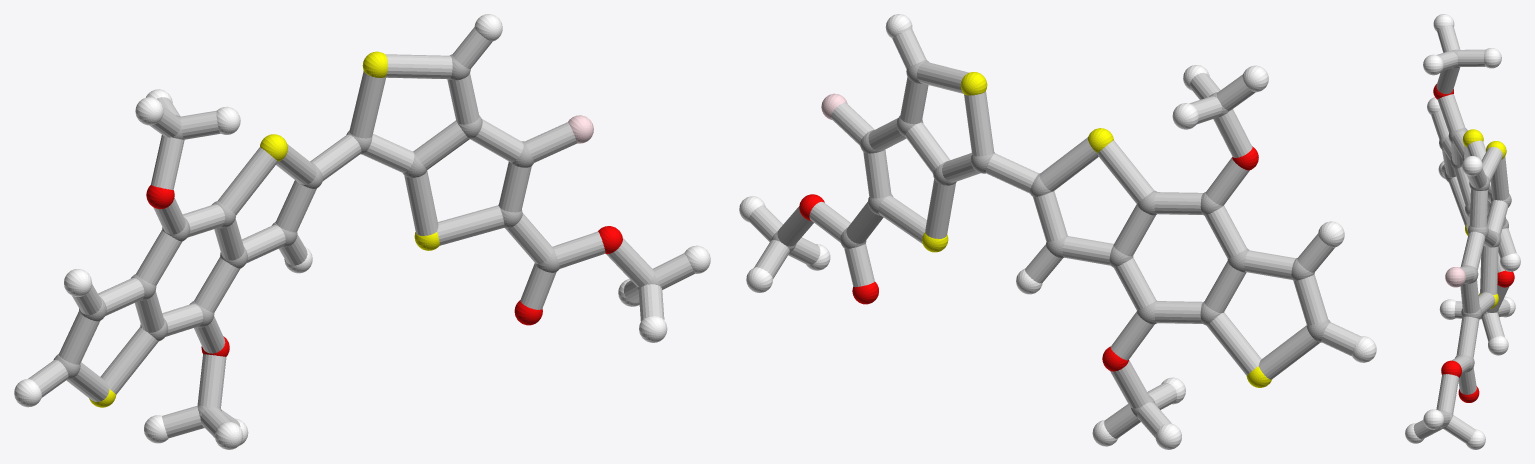
Rendered from Dimethoxy_Benzodithiophene_Phi_25_Theta_160_Methylcarbonyl_3_Fluoro_Thienothiophene.glb.
The picture shows the model from 3 angles, left to right: view 1: azimuth 30°, elevation 25°; view 2: azimuth 150°, elevation 25°; view 3: azimuth 270°, elevation 25°; orthographic projection. The views are drawn at different scales.
Visible parts, largest first — view 1: grp15205, grp8689, grp1, grp13395, grp7241; view 2: grp15205, grp8689, grp1, grp7241, grp13395; view 3: grp15205, grp8689, grp1, grp13395, grp7241, grp14843.
Part boxes in pixels (box(x1,y1,x2,y2)): grp15205: box(28, 27, 694, 438); grp8689: box(14, 14, 710, 449); grp1: box(53, 54, 660, 428); grp13395: box(146, 185, 622, 356); grp7241: box(89, 51, 439, 407); grp15205: box(748, 29, 1360, 438); grp8689: box(739, 14, 1376, 449); grp1: box(771, 60, 1330, 417); grp7241: box(922, 72, 1272, 387); grp13395: box(799, 146, 1258, 371); grp15205: box(1413, 25, 1516, 443); grp8689: box(1405, 14, 1520, 449); grp1: box(1439, 49, 1511, 428); grp13395: box(1433, 84, 1514, 402); grp7241: box(1462, 129, 1506, 308); grp14843: box(1445, 267, 1465, 287).
Bounding box in the file's own units: 16.65 × 9.42 × 3.34.
